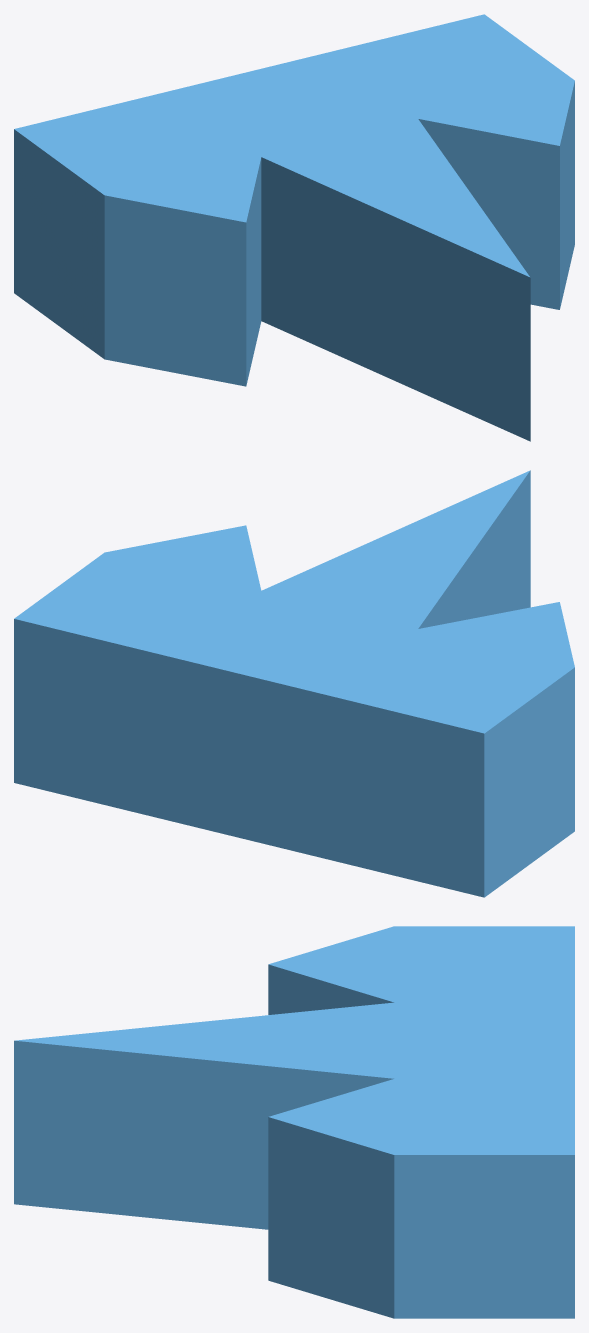
Rendered from Player.obj.
3 views of the same model, one above another, from view 1: azimuth 30°, elevation 25°; view 2: azimuth 150°, elevation 25°; view 3: azimuth 270°, elevation 25° (orthographic).
Parts seen in each view (by area): view 1: Cube; view 2: Cube; view 3: Cube.
Boxes of the visible parts, box(x1,y1,x2,y2) form: Cube: box(14, 14, 574, 441); Cube: box(14, 470, 574, 897); Cube: box(14, 926, 574, 1318).
Bounding box in the file's own units: 6 × 2 × 6.21.
Materials: 1 (1 with a texture image).
